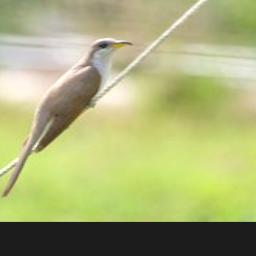Cuckoo: (0, 37, 135, 202)
